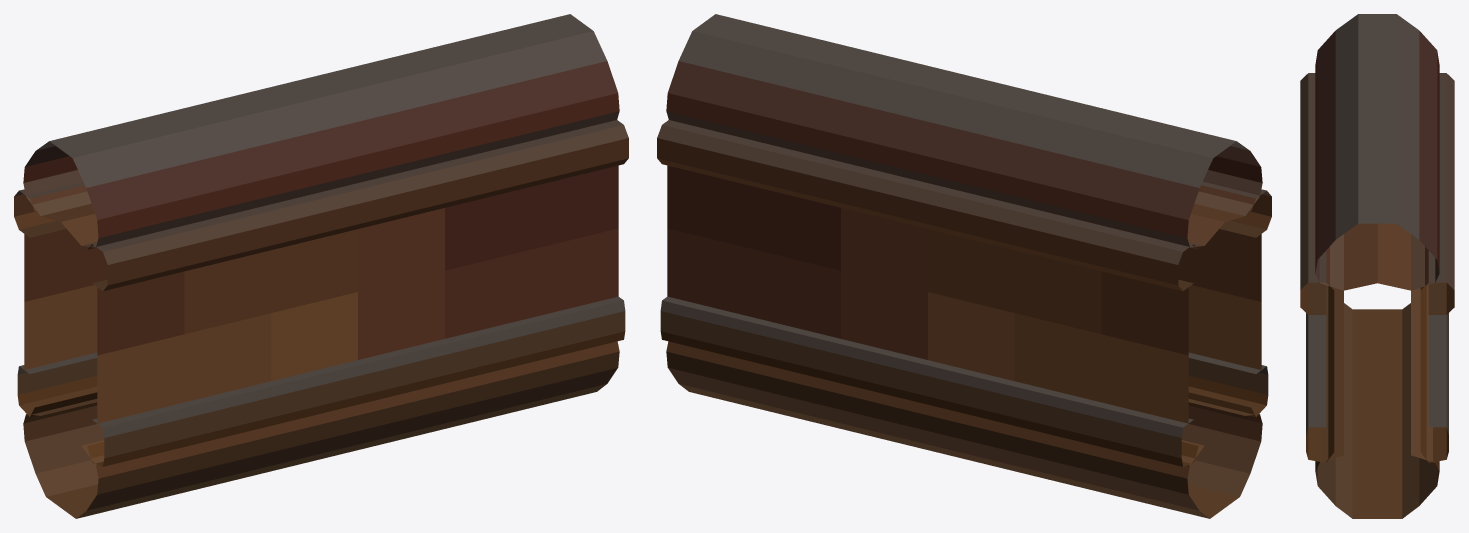
File: Wall_HomeA-TrimTopA-2m.fbx
The picture shows the model from 3 angles, left to right: view 1: azimuth 30°, elevation 25°; view 2: azimuth 150°, elevation 25°; view 3: azimuth 270°, elevation 25°; orthographic projection. The views are drawn at different scales.
Parts seen in each view (by area): view 1: Wall_HomeA-TrimTopA-2m; view 2: Wall_HomeA-TrimTopA-2m; view 3: Wall_HomeA-TrimTopA-2m.
Boxes of the visible parts, x1,y1,x2,y2 form: Wall_HomeA-TrimTopA-2m: [14, 14, 628, 518]; Wall_HomeA-TrimTopA-2m: [657, 14, 1271, 518]; Wall_HomeA-TrimTopA-2m: [1300, 14, 1454, 518].
Bounding box in the file's own units: 200 × 131 × 62.3.
